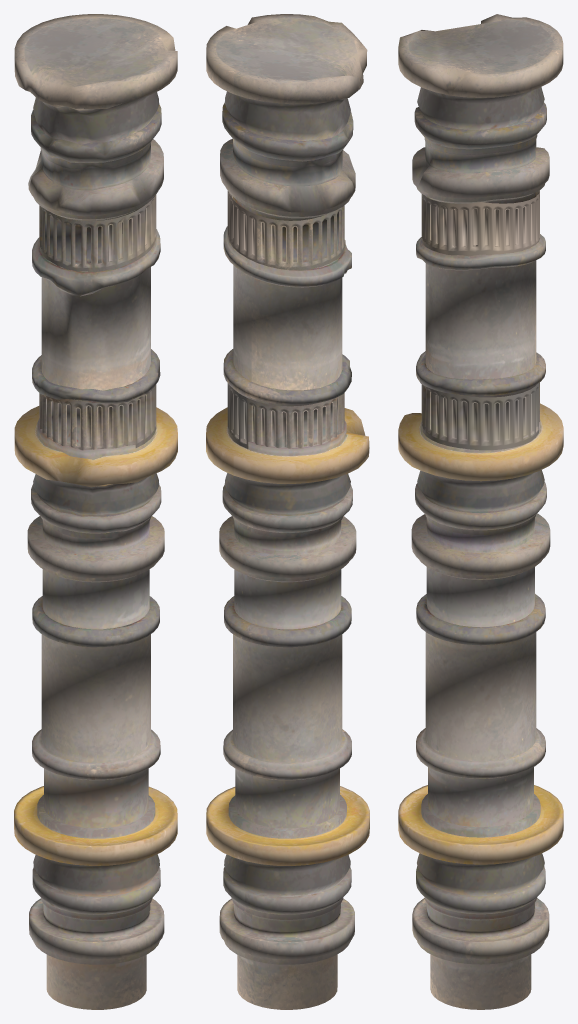
3 renders of one model, left to right at view 1: azimuth 30°, elevation 25°; view 2: azimuth 150°, elevation 25°; view 3: azimuth 270°, elevation 25°, orthographic.
Visible parts, largest first — view 1: 柱子.007; view 2: 柱子.007; view 3: 柱子.007.
Boxes of the visible parts, x1,y1,x2,y2 form: 柱子.007: [14, 14, 177, 1009]; 柱子.007: [206, 14, 369, 1009]; 柱子.007: [398, 14, 563, 1009].
Bounding box in the file's own units: 2057 × 13037 × 2068.
